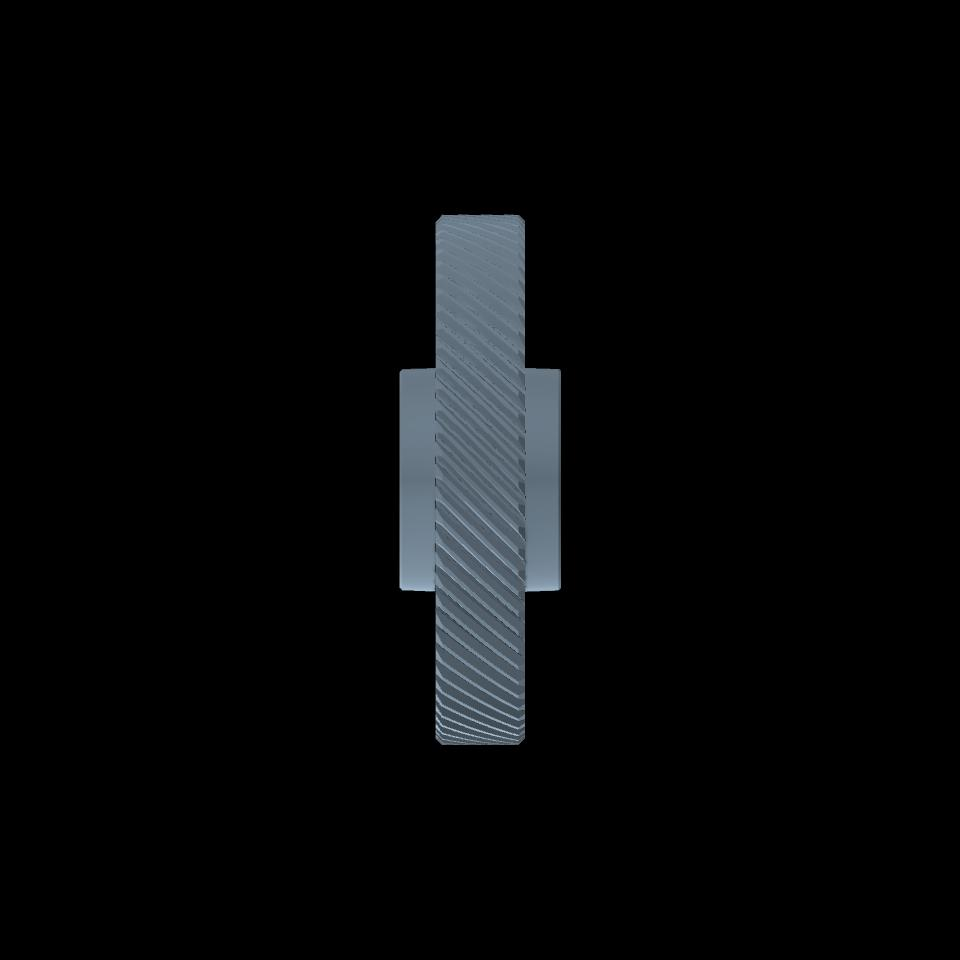Helical: (442, 215, 518, 745)
